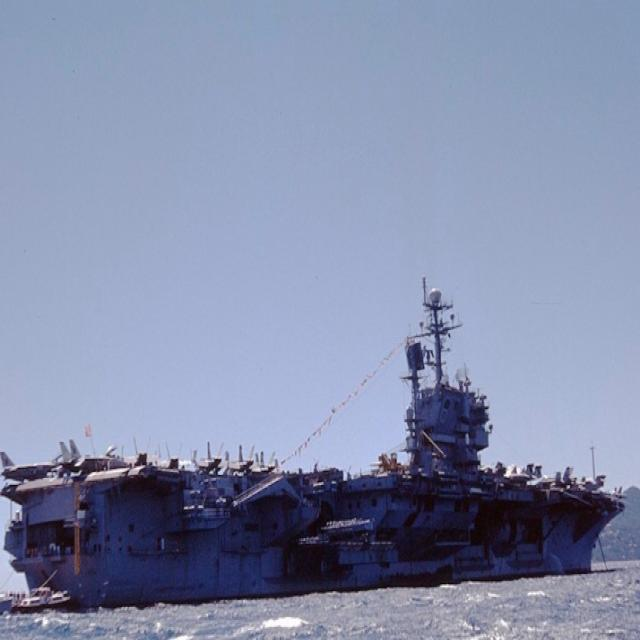Portanaves: (1, 269, 629, 612)
